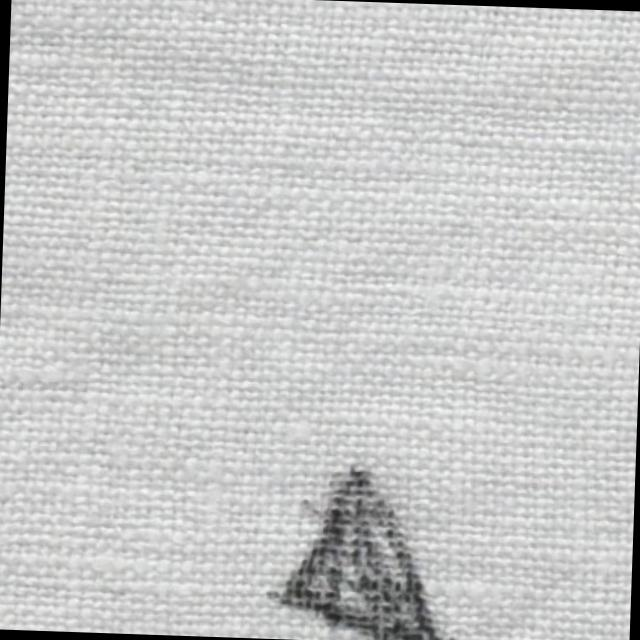Stain: (274, 465, 476, 640)
